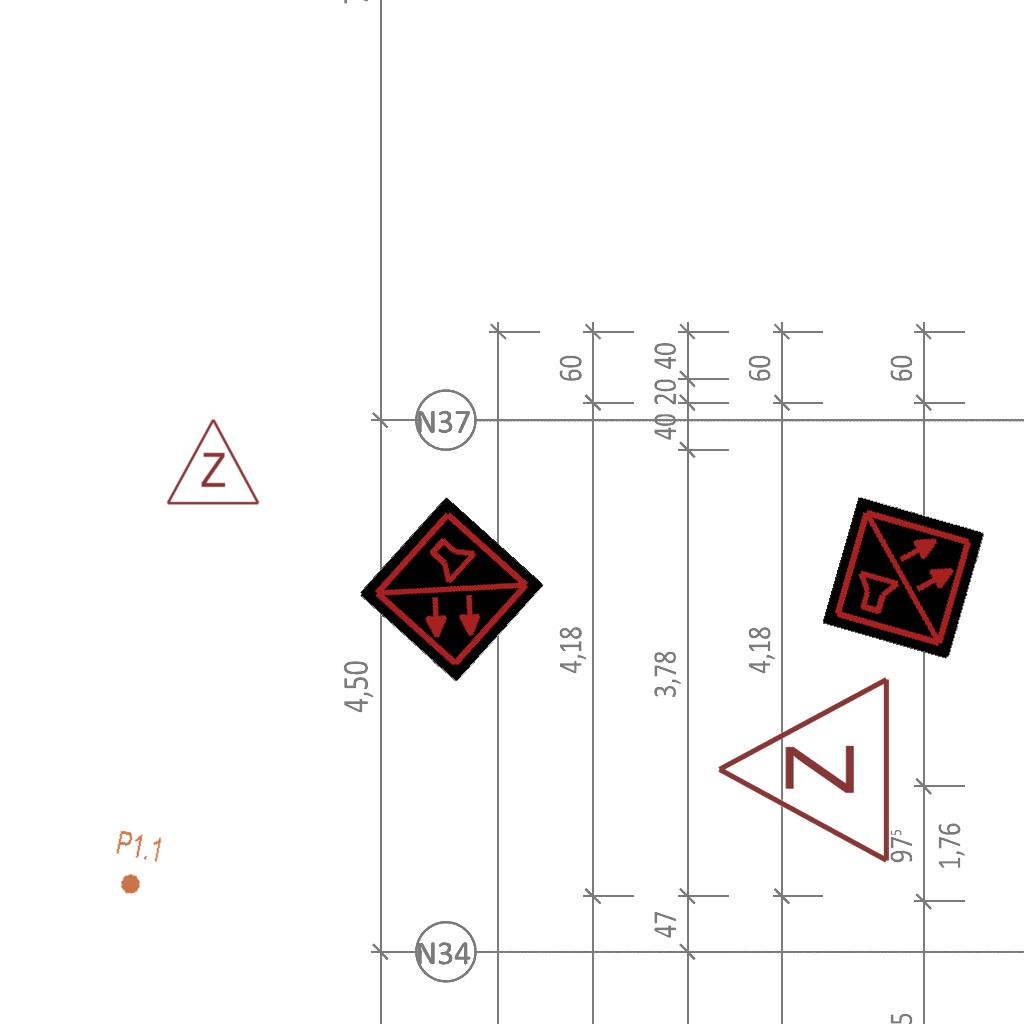Downlight_LED_Einbauleuchten_Flur: (107, 828, 165, 900)
OKW_Multisensormelder_(Kombination_optischer_Rauch-Kahlenmonoxid_Waerme-Melder): (357, 496, 545, 684), (822, 496, 986, 660)
Zimmersignalleuchte: (704, 674, 904, 870), (163, 412, 261, 512)
